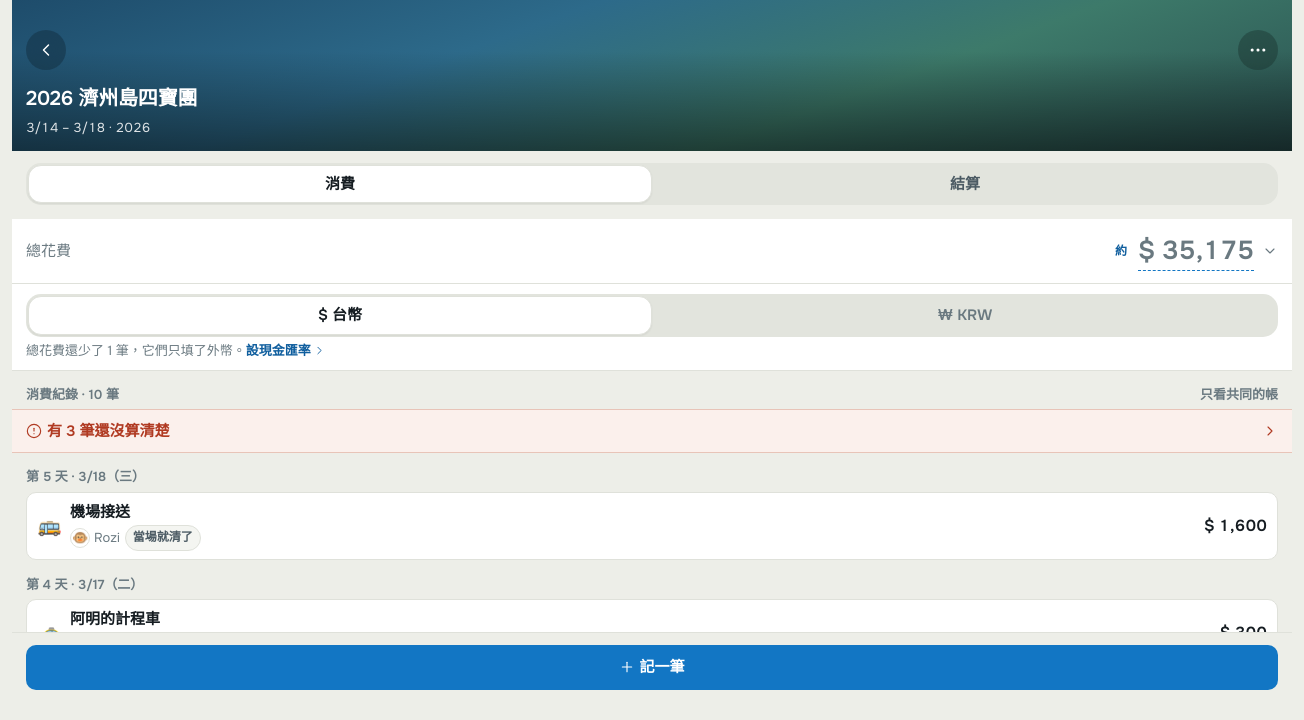
Test: D-①　只能有一個刪除對話框 › 按「刪除行程」時，畫面上只出現一個對話框
Click the button named "更多": {"x": 1258, "y": 50} x1=1238 y1=30 x2=1278 y2=70
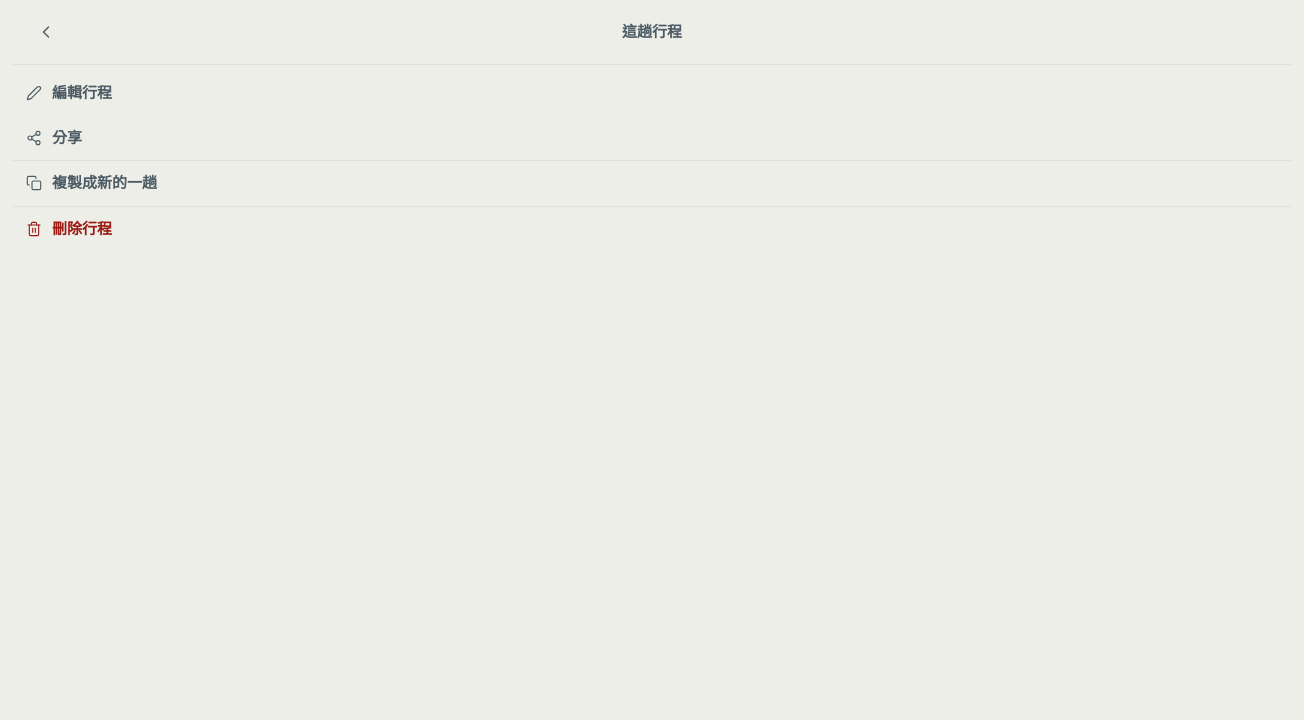
Click the button "刪除行程": {"x": 82, "y": 228} x1=26 y1=206 x2=1278 y2=251
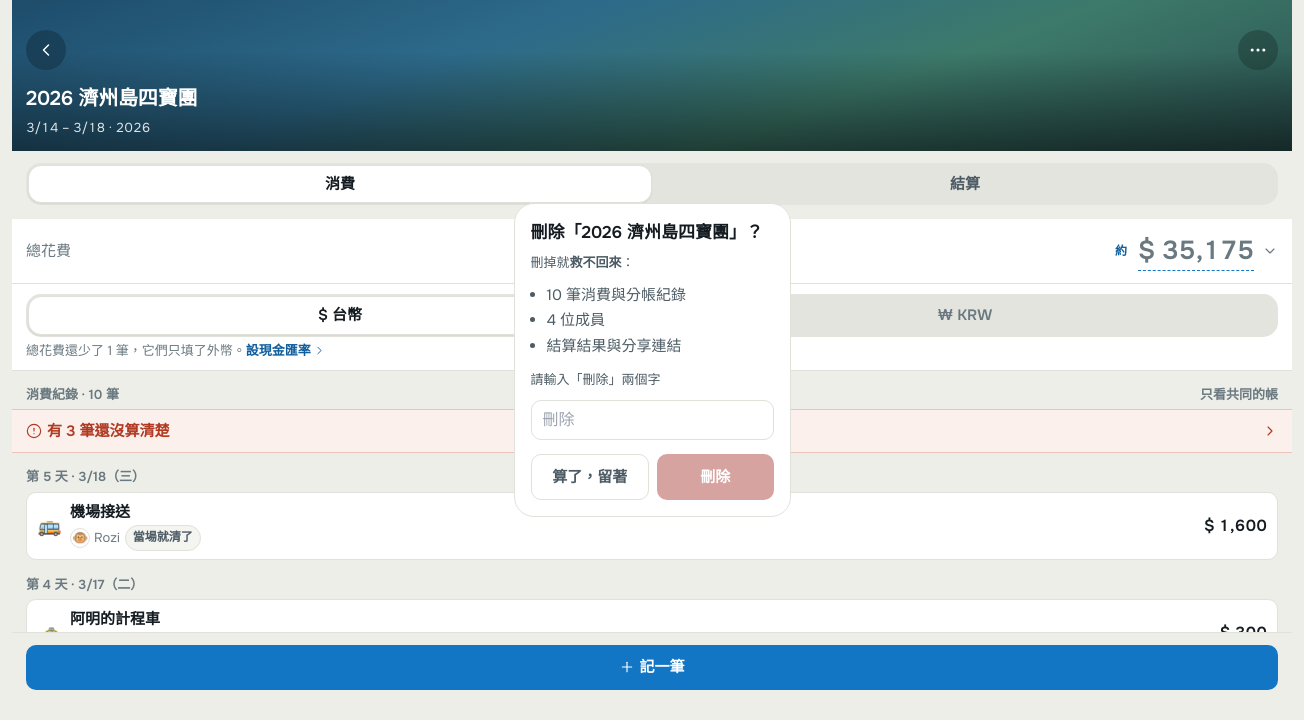
expect the text "刪除「2026 濟州島四寶團」？" is shown once: met, box x1=530 y1=220 x2=774 y2=245
expect the text "請輸入「刪除」兩個字" is shown: met, box x1=530 y1=371 x2=660 y2=388
